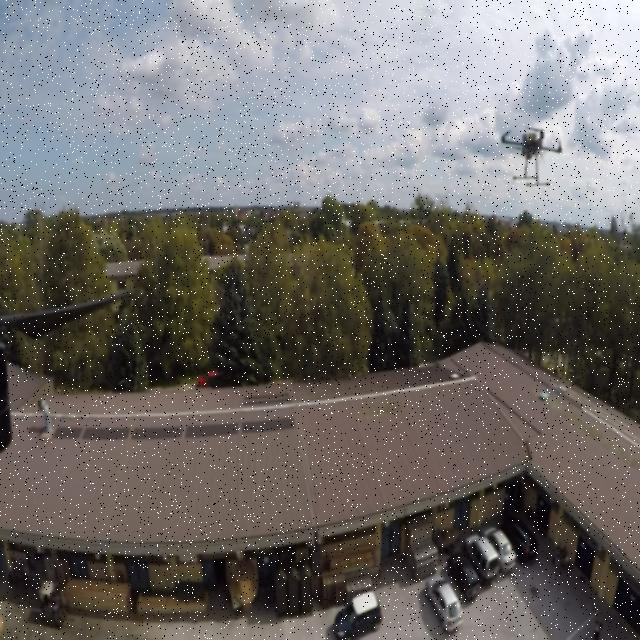UAV: (496, 120, 566, 190)
